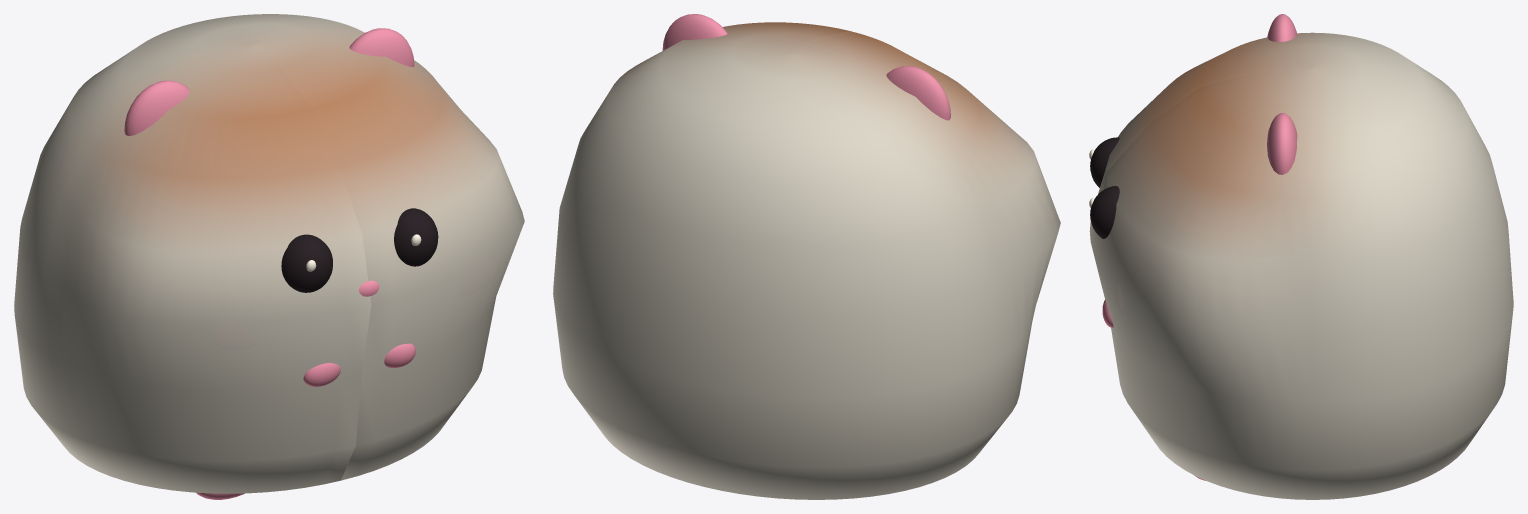
Rendered from hamster.glb.
3 views of the same model, side by side, from view 1: azimuth 30°, elevation 25°; view 2: azimuth 150°, elevation 25°; view 3: azimuth 270°, elevation 25° (orthographic). The views are drawn at different scales.
Parts seen in each view (by area): view 1: ContinuousHamsterBody, Eye1, Ear1, Eye2, Ear2, FrontPaw1, FrontPaw2; view 2: ContinuousHamsterBody, Ear1, Ear2; view 3: ContinuousHamsterBody, Ear2, Eye2, Eye1, Ear1.
Boxes of the visible parts, <box> form: ContinuousHamsterBody: <box>14,14,524,493</box>; Eye1: <box>281,234,332,292</box>; Ear1: <box>124,80,189,135</box>; Eye2: <box>394,208,438,266</box>; Ear2: <box>349,28,414,67</box>; FrontPaw1: <box>303,363,340,386</box>; FrontPaw2: <box>384,343,415,367</box>; ContinuousHamsterBody: <box>553,22,1060,499</box>; Ear1: <box>886,66,950,120</box>; Ear2: <box>662,14,727,50</box>; ContinuousHamsterBody: <box>1089,32,1513,499</box>; Ear2: <box>1267,113,1297,174</box>; Eye2: <box>1090,186,1119,238</box>; Eye1: <box>1090,137,1119,187</box>; Ear1: <box>1267,14,1297,41</box>.
Bounding box in the file's own units: 1.56 × 1.36 × 1.42.
